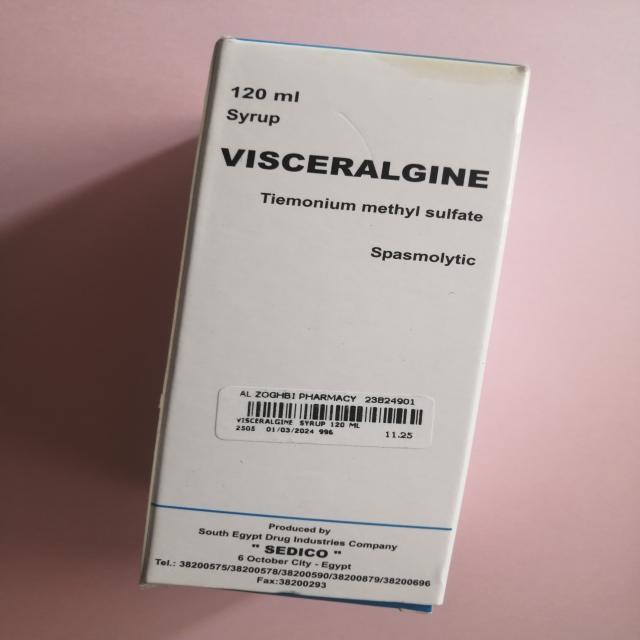Medicine: (127, 37, 533, 617)
